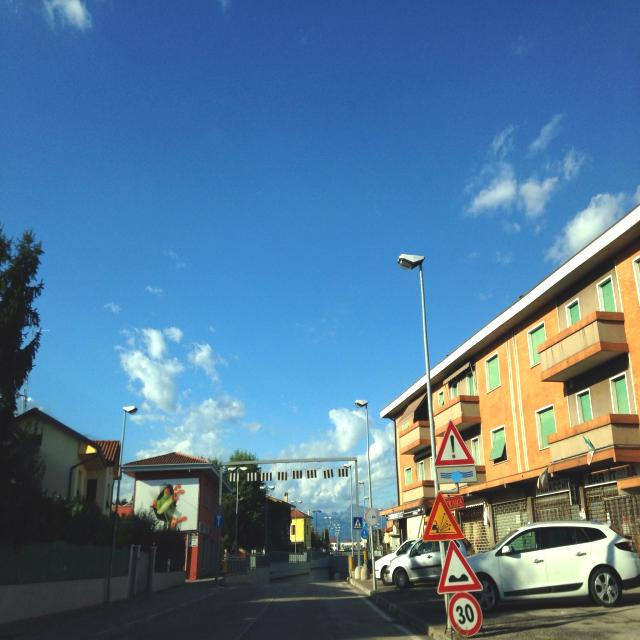car: (460, 519, 640, 613), (380, 538, 445, 590), (372, 538, 424, 581)
